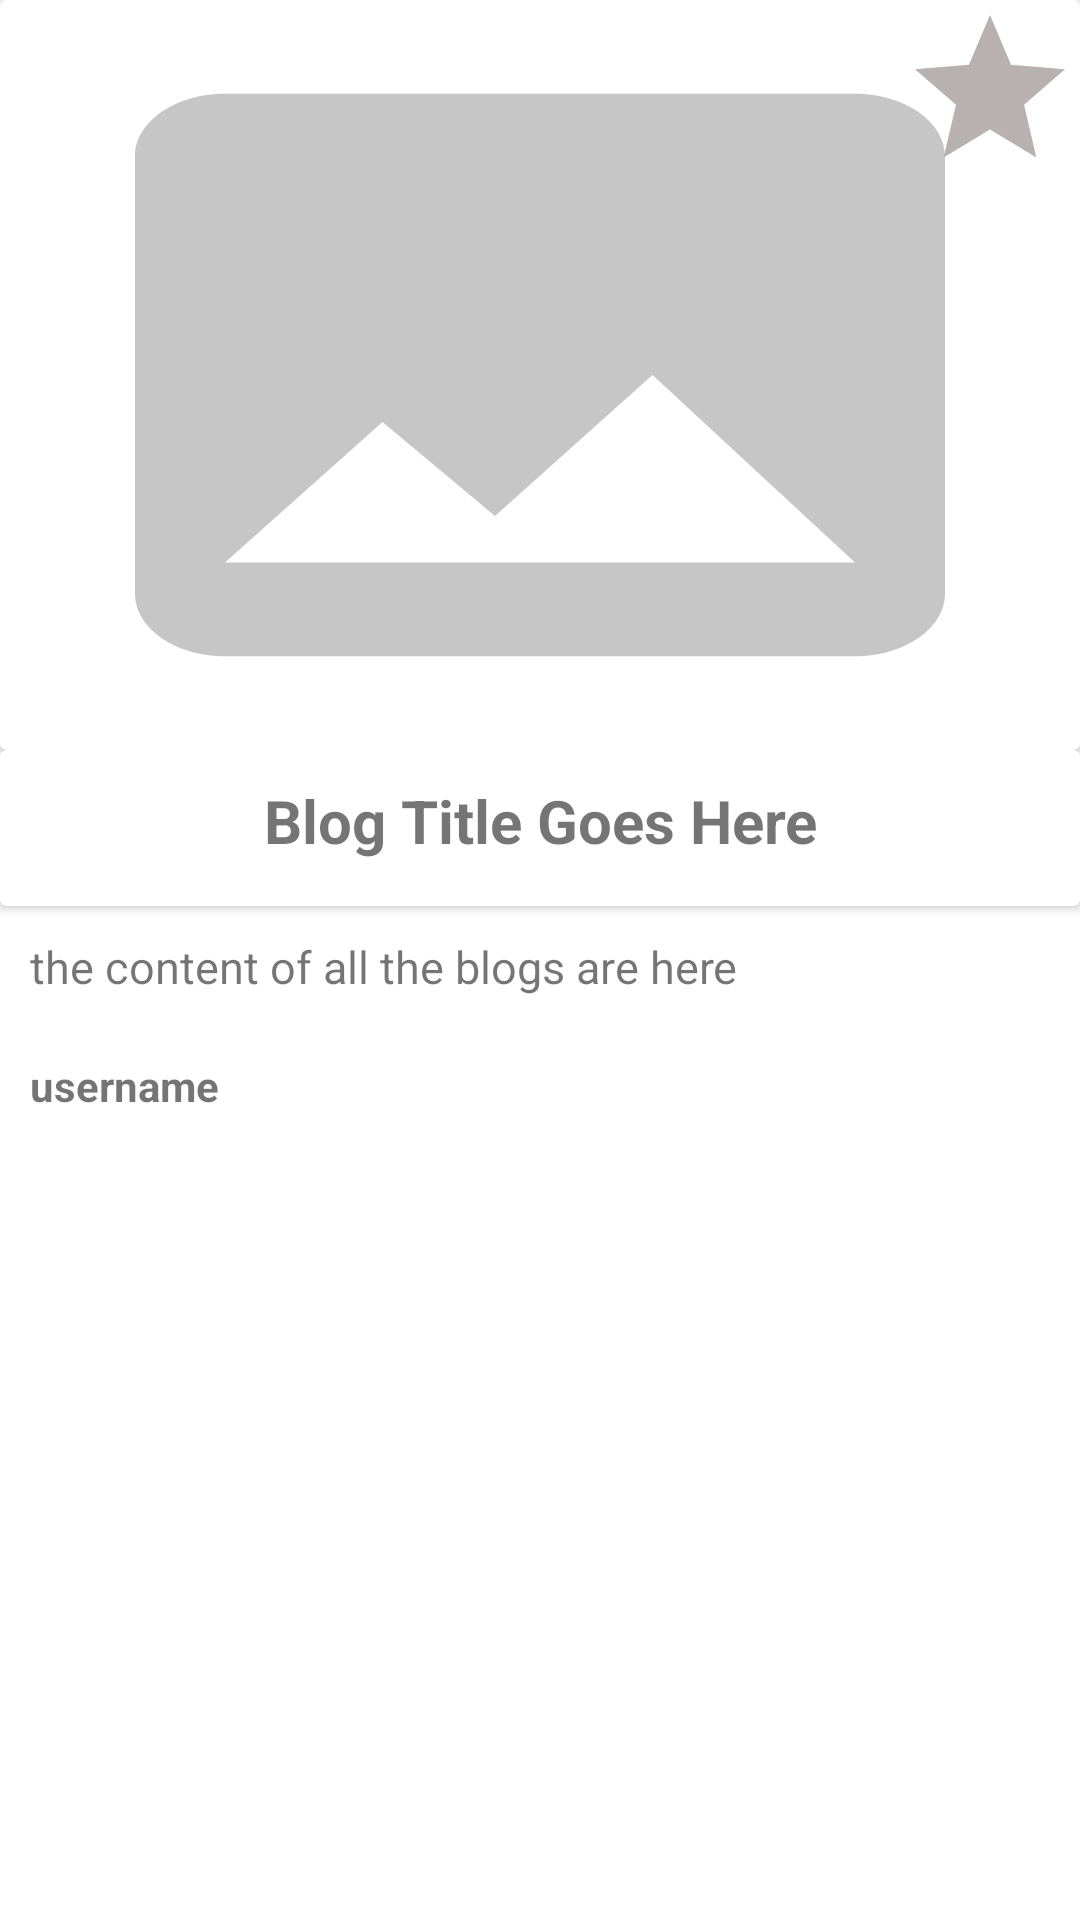

Named icons in this screenshot (1080 x 1920) and their bounding boxes, [left=x1, top=y1, right=x2, bottom=y2]:
star: [left=900, top=1, right=1080, bottom=180]
